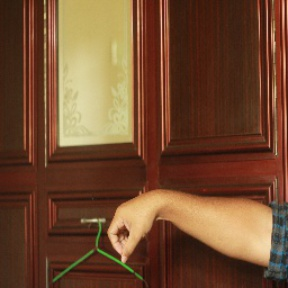O: (105, 194, 164, 266)
